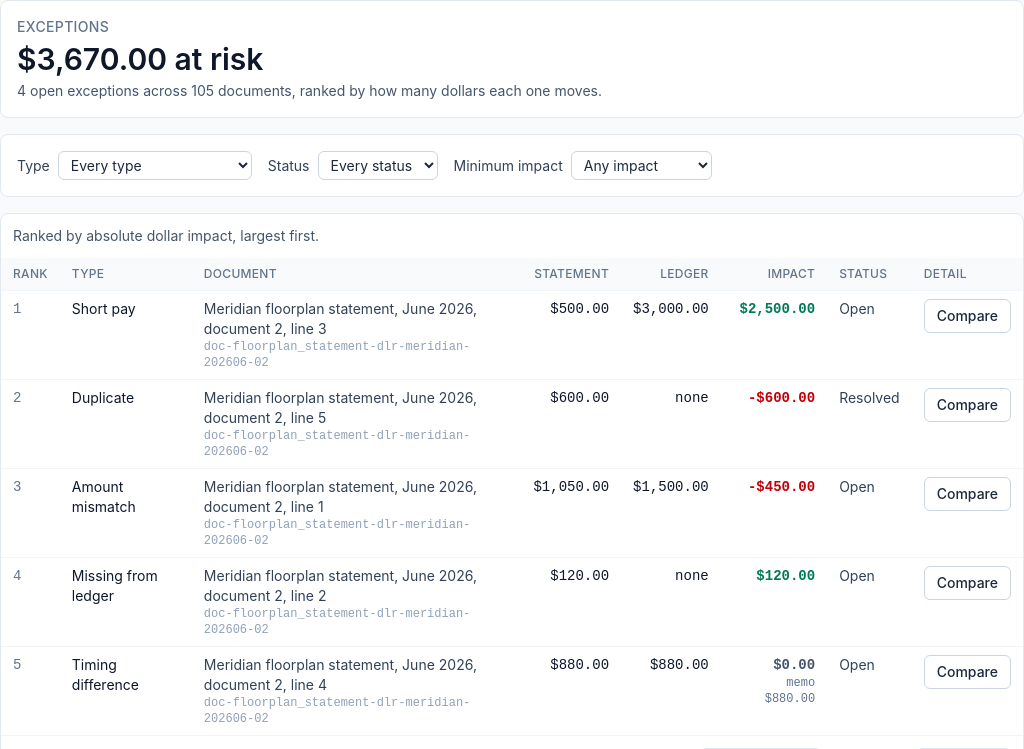
the exceptions dashboard › collapses the row again and keeps aria-expanded honest
Click the button "Compare" in the row of "Amount mismatch" at (967, 494), box x1=924 y1=477 x2=1011 y2=511
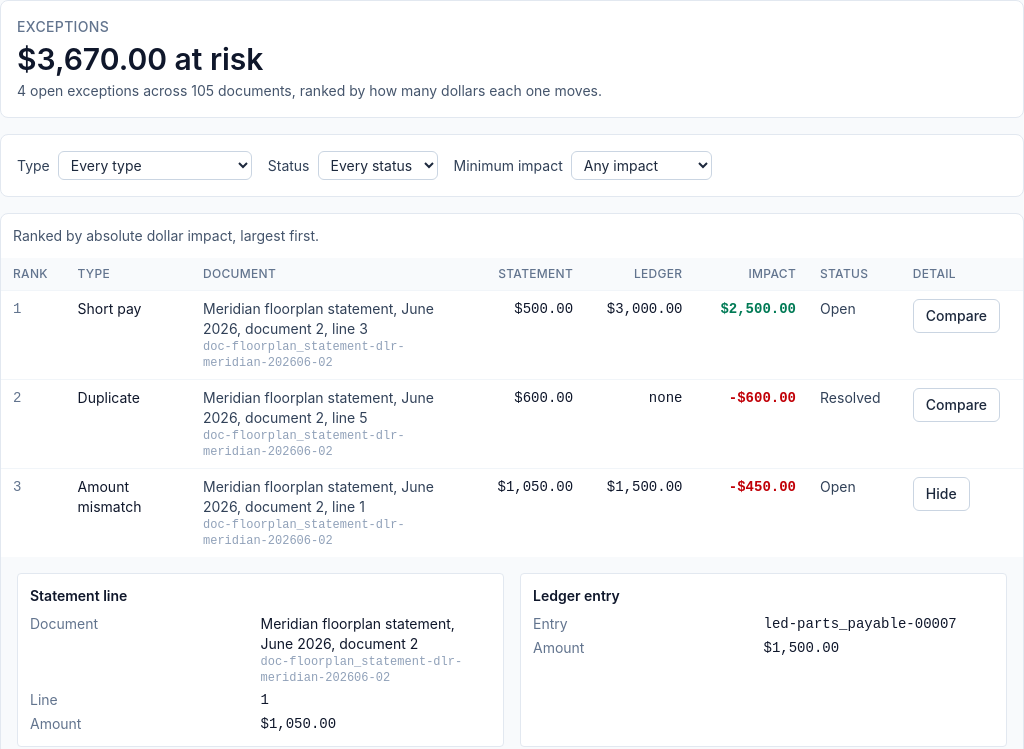
Now the button "Hide" is expanded
Click the button "Hide" at (941, 494), box x1=913 y1=477 x2=970 y2=511
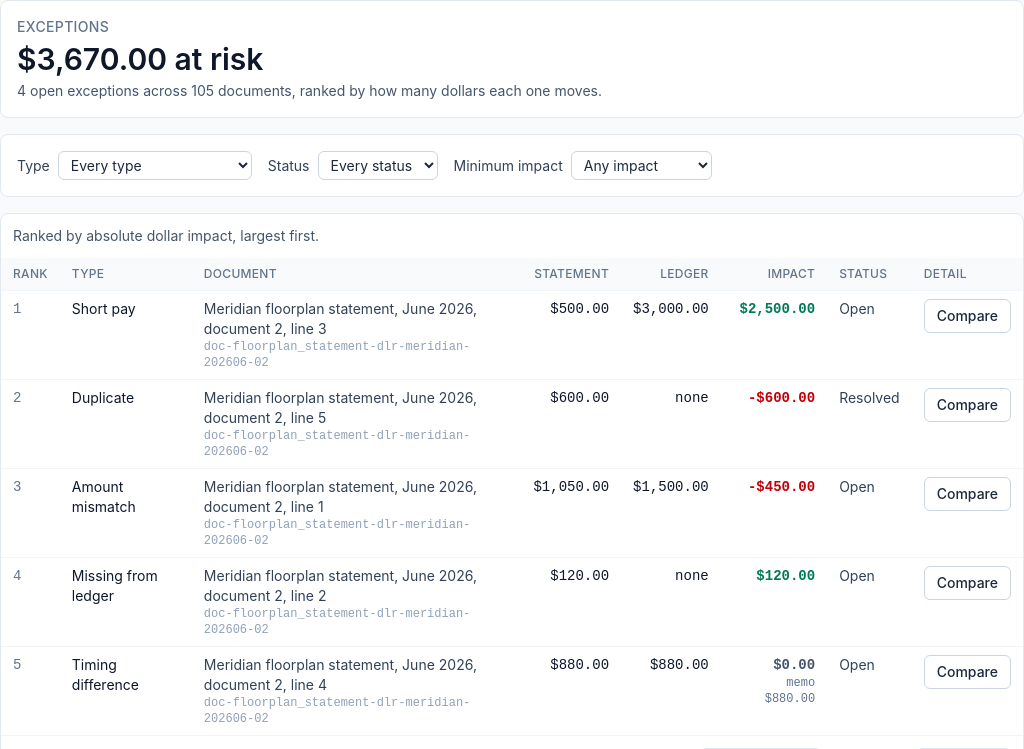
Now the heading "Ledger entry" is gone
